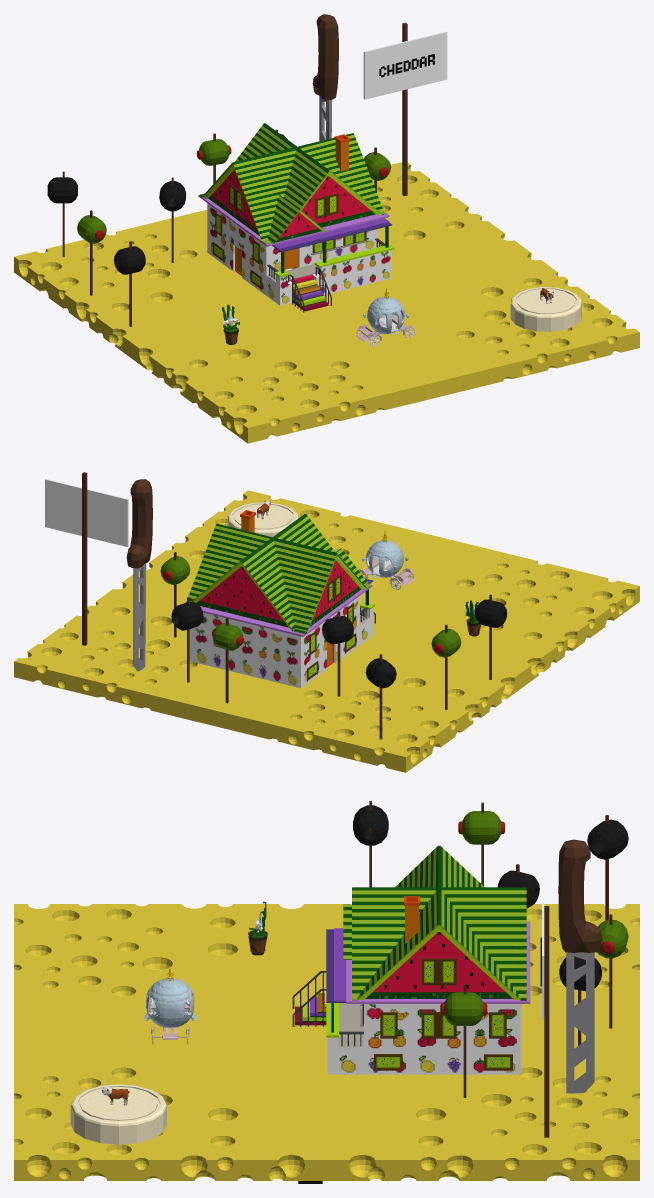
3 views of the same model, one above another, from view 1: azimuth 30°, elevation 25°; view 2: azimuth 150°, elevation 25°; view 3: azimuth 270°, elevation 25° (orthographic). The views are drawn at different scales.
Visible parts, largest first — view 1: Cube.022, Cube.1063, Cube.023, Cylinder.016, Cube.024, VEHICLES_FANTASY_CARRIAGE, Sphere.017, Sphere.016, Sphere.020, Sphere.018, Sphere.022, Sphere.019; view 2: Cube.022, Cube.1063, Cube.023, Cube.024, VEHICLES_FANTASY_CARRIAGE, Cylinder.016, Sphere.020, Sphere.016, Sphere.022, Sphere.017, Sphere.021, Sphere.018 (+1 smaller); view 3: Cube.022, Cube.1063, Cube.024, Cylinder.016, VEHICLES_FANTASY_CARRIAGE, Cube.023, Sphere.019, Sphere.016, Sphere.018, Sphere.017, Sphere.022, Sphere.020 (+2 smaller).
Part boxes in pixels (left/top/right/bottom): Cube.022: left=14, top=162, right=639, bottom=443; Cube.1063: left=198, top=123, right=394, bottom=312; Cube.023: left=363, top=22, right=447, bottom=196; Cylinder.016: left=510, top=287, right=581, bottom=331; Cube.024: left=312, top=14, right=338, bottom=141; VEHICLES_FANTASY_CARRIAGE: left=356, top=287, right=414, bottom=346; Sphere.017: left=114, top=241, right=145, bottom=326; Sphere.016: left=47, top=171, right=77, bottom=256; Sphere.020: left=159, top=177, right=186, bottom=262; Sphere.018: left=77, top=210, right=106, bottom=295; Sphere.022: left=196, top=133, right=231, bottom=183; Sphere.019: left=364, top=147, right=390, bottom=192; Cube.022: left=14, top=490, right=639, bottom=772; Cube.1063: left=185, top=510, right=375, bottom=688; Cube.023: left=45, top=472, right=128, bottom=645; Cube.024: left=126, top=479, right=152, bottom=671; VEHICLES_FANTASY_CARRIAGE: left=358, top=530, right=414, bottom=589; Cylinder.016: left=227, top=502, right=298, bottom=537; Sphere.020: left=322, top=611, right=353, bottom=696; Sphere.016: left=365, top=654, right=396, bottom=739; Sphere.022: left=212, top=618, right=243, bottom=703; Sphere.017: left=475, top=594, right=507, bottom=679; Sphere.021: left=171, top=597, right=203, bottom=682; Sphere.018: left=431, top=624, right=461, bottom=709; Cube.022: left=14, top=904, right=639, bottom=1180; Cube.1063: left=292, top=845, right=530, bottom=1074; Cube.024: left=558, top=839, right=601, bottom=1093; Cylinder.016: left=70, top=1084, right=166, bottom=1144; VEHICLES_FANTASY_CARRIAGE: left=143, top=965, right=196, bottom=1044; Cube.023: left=540, top=902, right=549, bottom=1137; Sphere.019: left=440, top=984, right=487, bottom=1097; Sphere.016: left=587, top=815, right=628, bottom=920; Sphere.018: left=458, top=802, right=504, bottom=885; Sphere.017: left=353, top=801, right=388, bottom=887; Sphere.022: left=597, top=914, right=628, bottom=1028; Sphere.020: left=497, top=864, right=539, bottom=908.
Bounding box in the file's own units: 3917 × 2015 × 4000.
35 materials, 5 textured.
